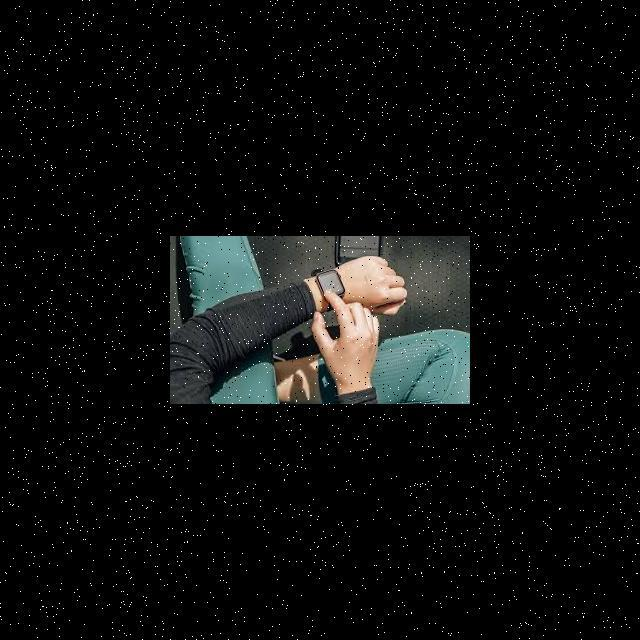watch: (295, 250, 357, 321)
